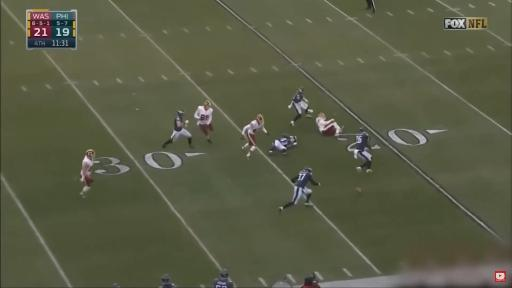Helmet: (86, 149, 95, 159), (161, 274, 170, 283), (256, 113, 263, 124), (220, 270, 228, 278), (204, 100, 211, 109), (358, 127, 366, 134), (304, 167, 313, 173), (298, 87, 305, 94), (318, 113, 325, 119), (178, 110, 184, 116)
Jersey: (291, 170, 318, 188), (195, 106, 212, 124), (244, 120, 263, 134), (81, 156, 93, 177), (356, 133, 369, 151), (316, 117, 330, 131), (278, 137, 295, 148), (213, 279, 233, 287), (174, 116, 184, 131), (293, 90, 303, 103), (161, 283, 177, 287)
Player: (279, 167, 320, 212), (241, 115, 269, 158), (163, 111, 193, 148), (289, 88, 313, 125), (354, 128, 372, 172), (195, 101, 213, 143), (80, 150, 95, 197), (316, 113, 342, 136), (270, 135, 297, 153), (213, 269, 234, 288), (160, 275, 177, 287)
